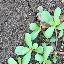Purslane: (3, 4, 64, 64)
